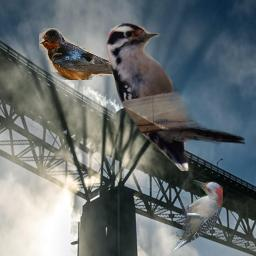Swallow: (39, 28, 154, 80)
Woodpecker: (106, 23, 245, 171), (171, 180, 223, 252)
